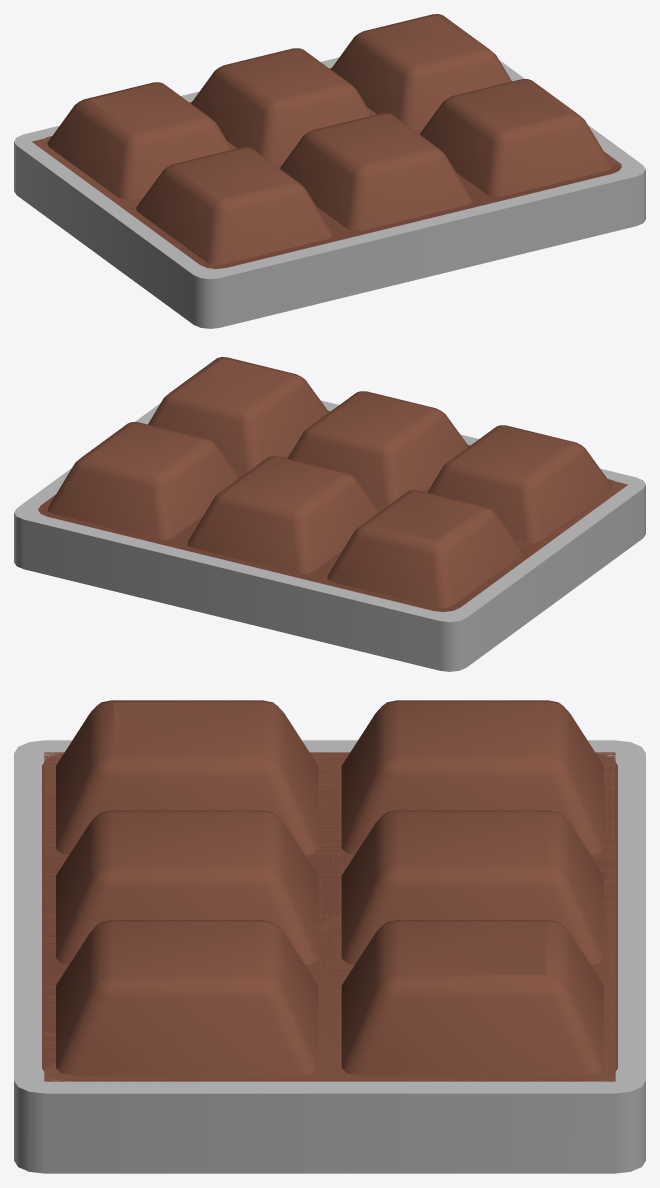
3 views of the same model, one above another, from view 1: azimuth 30°, elevation 25°; view 2: azimuth 150°, elevation 25°; view 3: azimuth 270°, elevation 25° (orthographic). The views are drawn at different scales.
Visible parts, largest first — view 1: chocolate_1_1, chocolate_1_2; view 2: chocolate_1_1, chocolate_1_2; view 3: chocolate_1_1, chocolate_1_2.
Part boxes in pixels (<box>): chocolate_1_1: <box>32,14,621,270</box>; chocolate_1_2: <box>14,57,645,328</box>; chocolate_1_1: <box>47,357,627,610</box>; chocolate_1_2: <box>14,400,645,671</box>; chocolate_1_1: <box>44,700,615,1081</box>; chocolate_1_2: <box>14,740,645,1173</box>.
Bounding box in the file's own units: 76.44 × 15.96 × 57.8.
